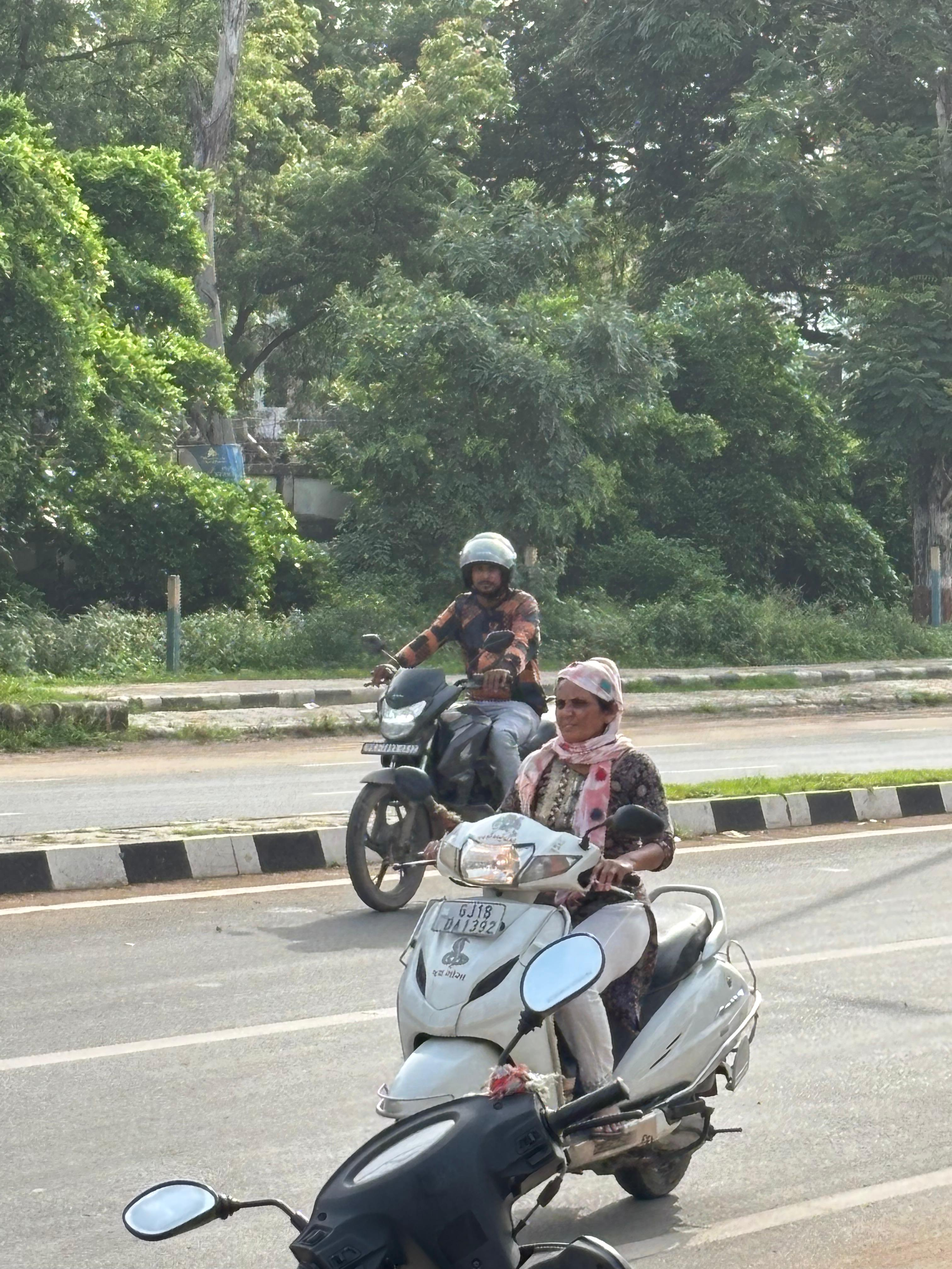BikeWithRider: (363, 645, 776, 1222), (331, 514, 581, 920)
Helmet: (450, 523, 528, 606)
NoHelmet: (537, 651, 638, 754)
